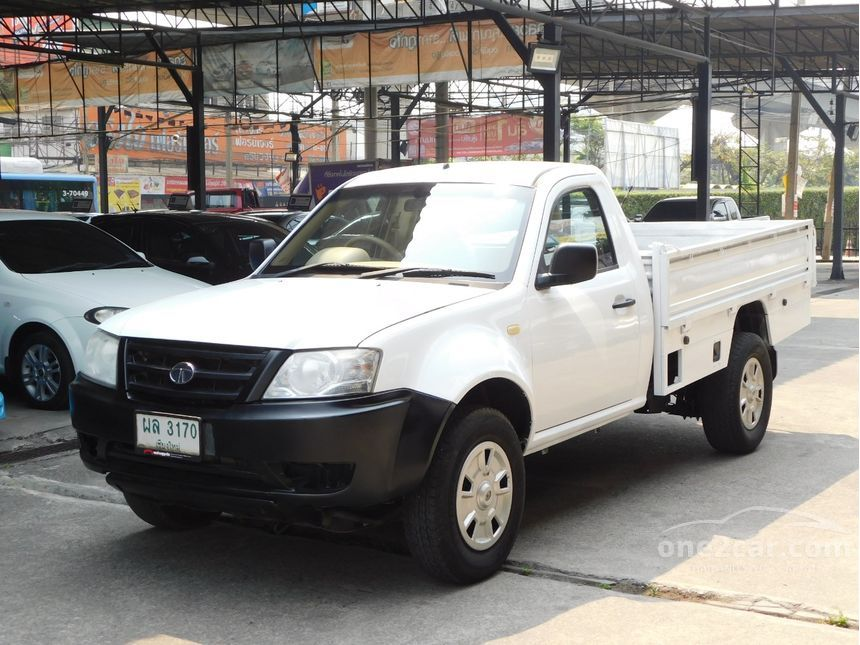pickup: (68, 148, 818, 580)
